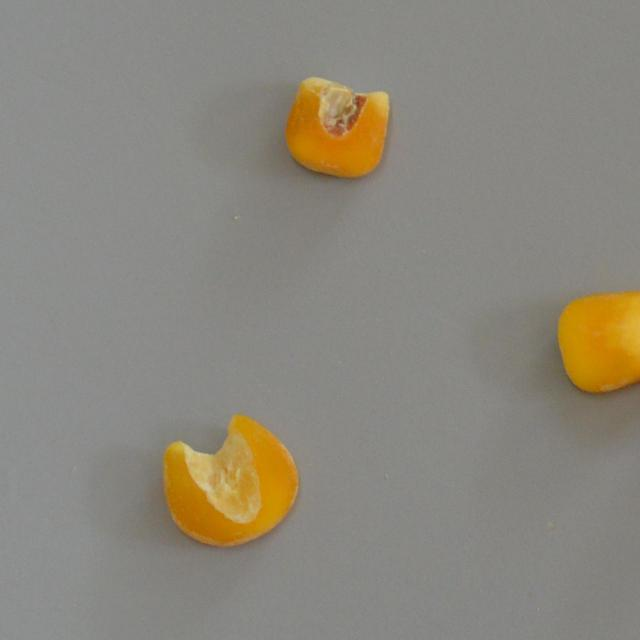dañado: (276, 64, 400, 190), (553, 284, 640, 398)
pelicula: (156, 408, 306, 553)
